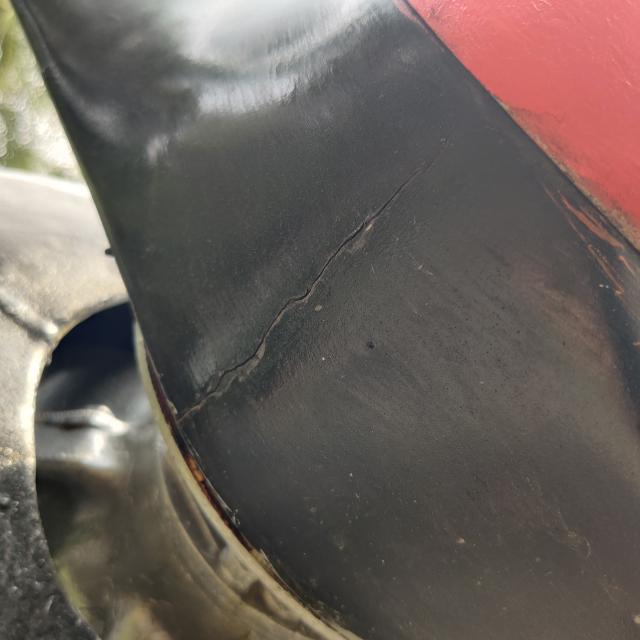crack: (168, 152, 458, 433)
